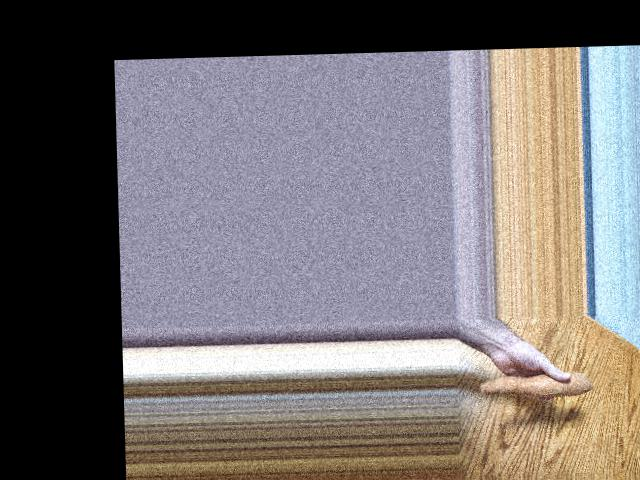sweet_potato: (479, 367, 587, 402)
